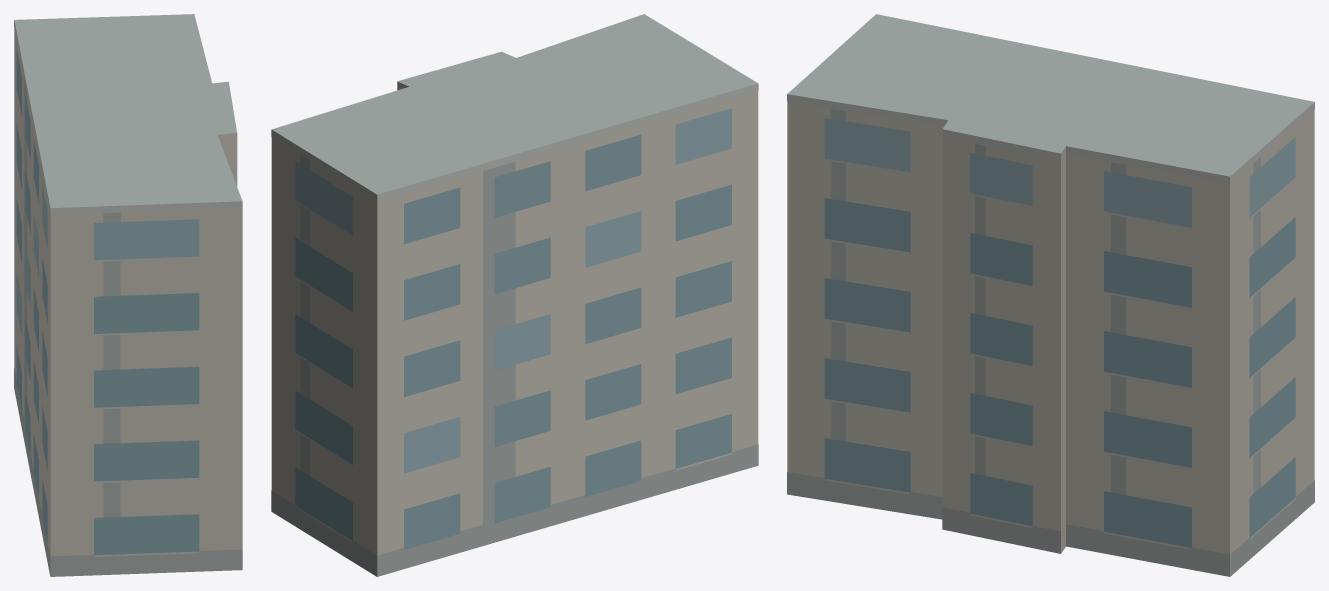
The model's file is survey-upis-32726190.glb.
The picture shows the model from 3 angles, left to right: view 1: azimuth 30°, elevation 25°; view 2: azimuth 150°, elevation 25°; view 3: azimuth 270°, elevation 25°; orthographic projection. The views are drawn at different scales.
Parts seen in each view (by area): view 1: survey-upis-32726190.tmp; view 2: survey-upis-32726190.tmp; view 3: survey-upis-32726190.tmp.
Boxes of the visible parts, box(x1,y1,x2,y2) form: survey-upis-32726190.tmp: box(14, 14, 242, 576); survey-upis-32726190.tmp: box(271, 14, 758, 576); survey-upis-32726190.tmp: box(787, 14, 1314, 576).
Bounding box in the file's own units: 11.07 × 12.7 × 15.18.
